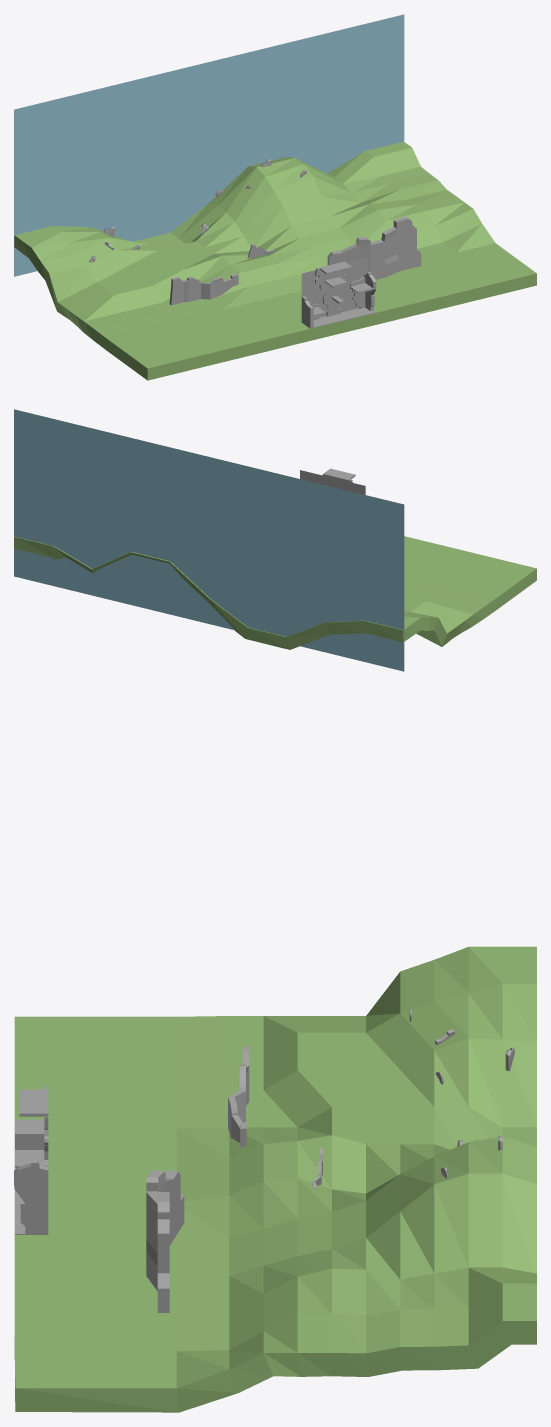
The model's file is Ruins Environment.fbx.
3 views of the same model, one above another, from view 1: azimuth 30°, elevation 25°; view 2: azimuth 150°, elevation 25°; view 3: azimuth 270°, elevation 25° (orthographic). The views are drawn at different scales.
Parts seen in each view (by area): view 1: land, background_plane, land_side, background_wall, invisible_wall_back, background_wall1, wall2, ground; view 2: background_plane, land, invisible_wall_back; view 3: land, background_wall, wall4, background_wall1, ceiling.
Boxes of the visible parts, box(x1,y1,x2,y2) form: land: box(14, 141, 536, 380); background_plane: box(14, 14, 404, 276); land_side: box(147, 273, 536, 380); background_wall: box(327, 216, 421, 279); invisible_wall_back: box(301, 257, 367, 317); background_wall1: box(169, 273, 238, 305); wall2: box(315, 267, 346, 316); ground: box(302, 307, 375, 328); background_plane: box(14, 409, 404, 671); land: box(14, 536, 536, 649); invisible_wall_back: box(300, 470, 365, 494); land: box(14, 946, 536, 1412); background_wall: box(146, 1170, 184, 1312); wall4: box(14, 1160, 48, 1233); background_wall1: box(228, 1046, 249, 1147); ceiling: box(19, 1089, 48, 1116).
Bounding box in the file's own units: 1290 × 550 × 763.
